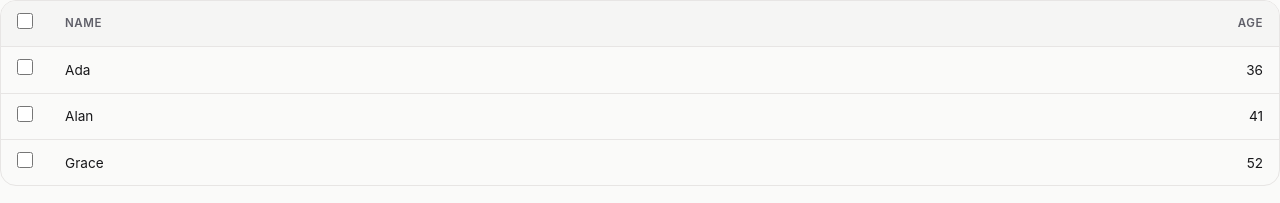
Test: DataTable › selection › selects every row via select-all and reflects the checked state
The width and height of the screenshot is (1280, 203).
Step 1. Click the checkbox named "Select all rows" → (25, 21), box [17,13,33,29]
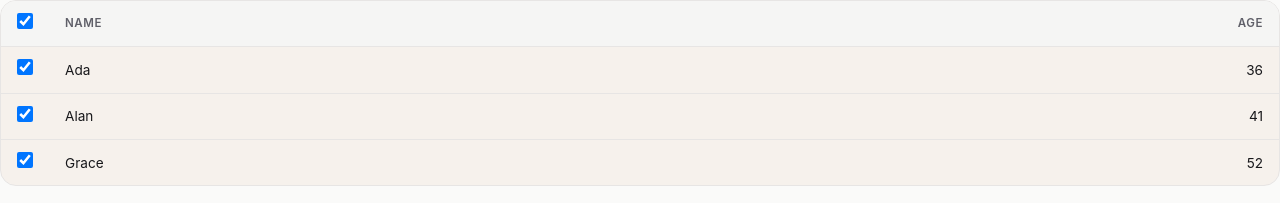
Now the checkbox named "Select all rows" is checked, box [17,13,33,29]
Now the checkbox named "Select row 1" is checked, box [17,59,33,75]
Now the checkbox named "Select row 2" is checked, box [17,106,33,122]
